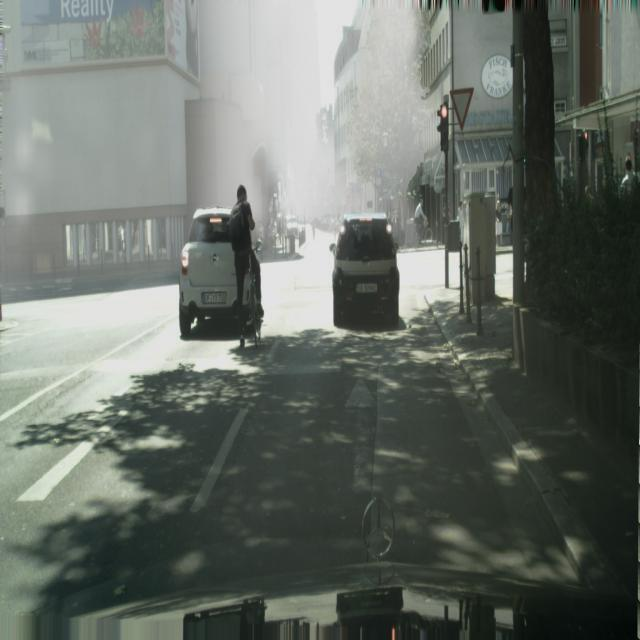car: (228, 184, 263, 348), (410, 198, 433, 244)
person: (619, 156, 640, 201)
truck: (331, 212, 400, 328), (178, 206, 238, 339)
